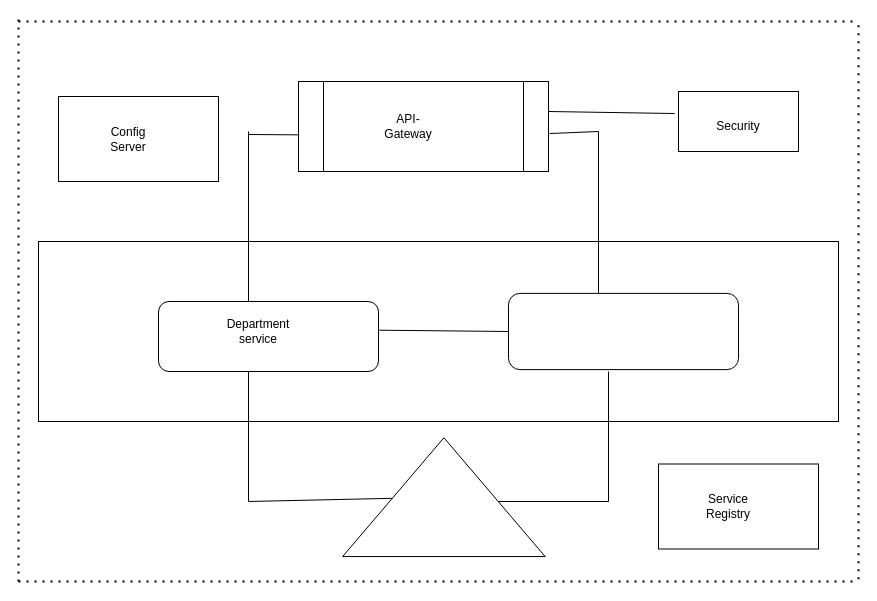
This 877x601 diagram has some shape labels left out. The centre of each missing label's shape, as x and y in pixels:
Employee service: (x=623, y=331)
ZipKin: (x=443, y=496)
